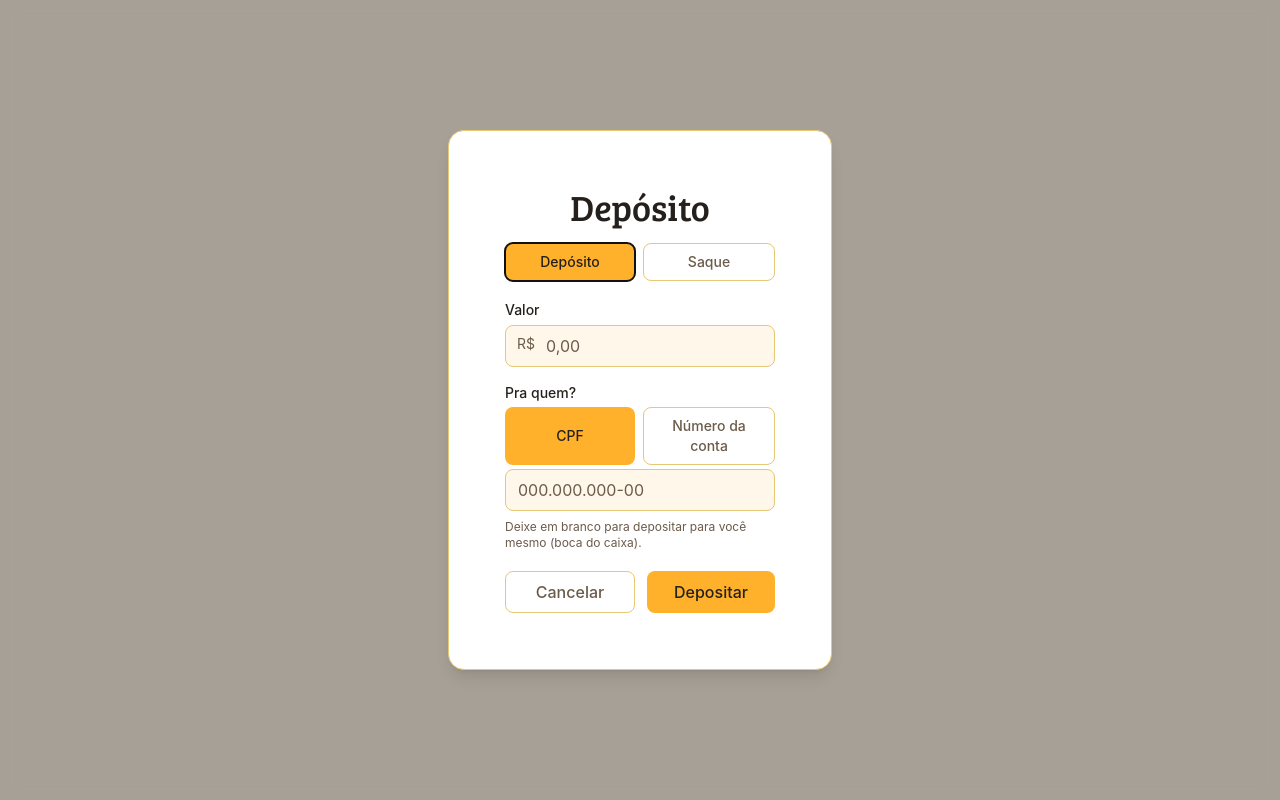
Test: MovementModal › deposita por número da conta: envia XXXXX-XX
Type "100" into the field with placeholder "0,00".
click(640, 346); type("100")  # box x1=505 y1=325 x2=775 y2=367
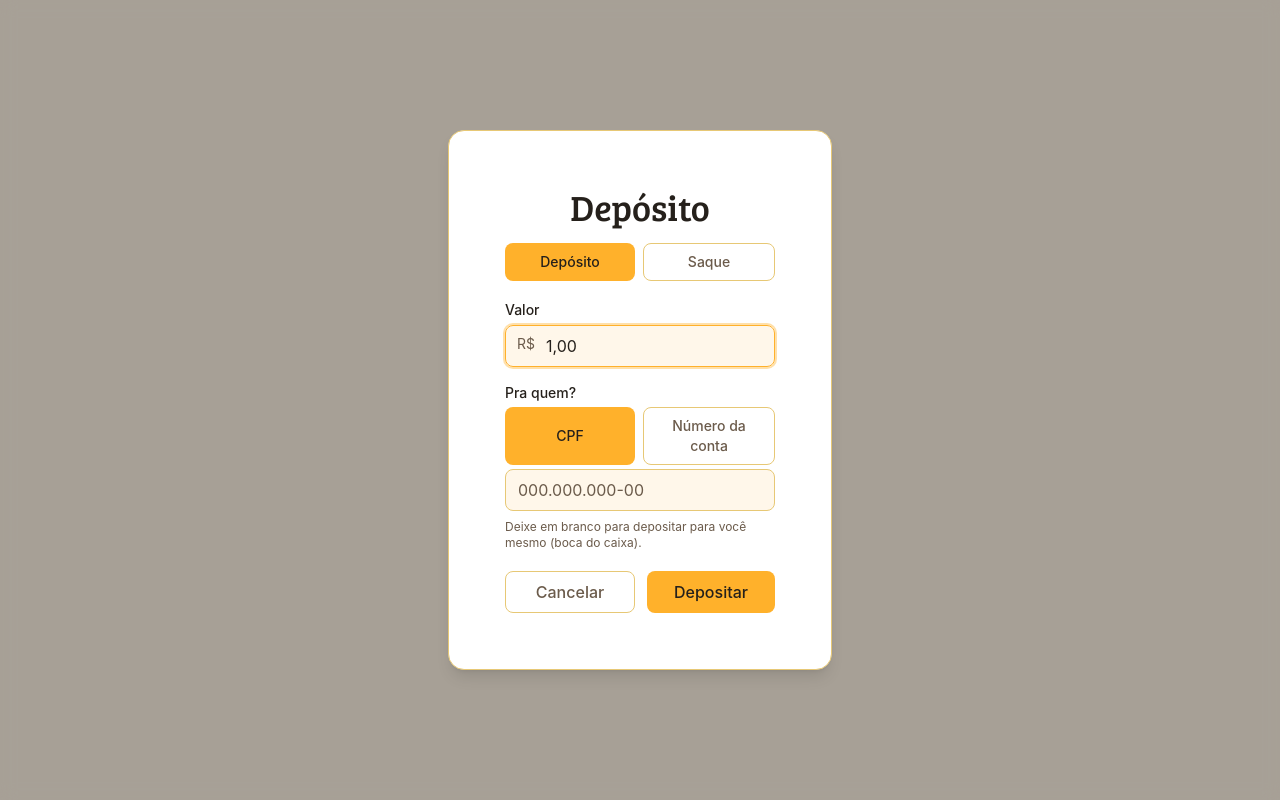
Click the button "Número da conta".
click(709, 436)  # box x1=643 y1=407 x2=775 y2=465
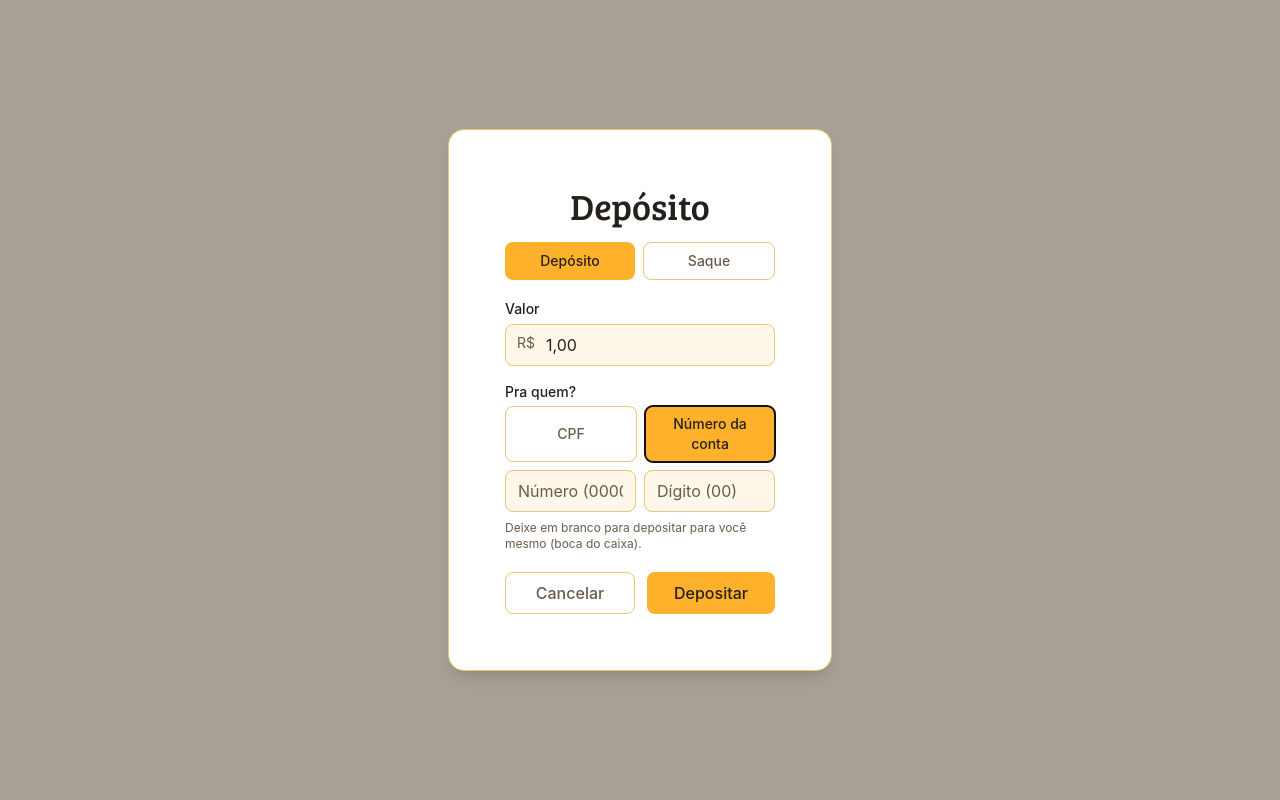
Type "00315" into the field with placeholder "Número (00000)".
click(570, 491); type("00315")  # box x1=505 y1=470 x2=636 y2=512
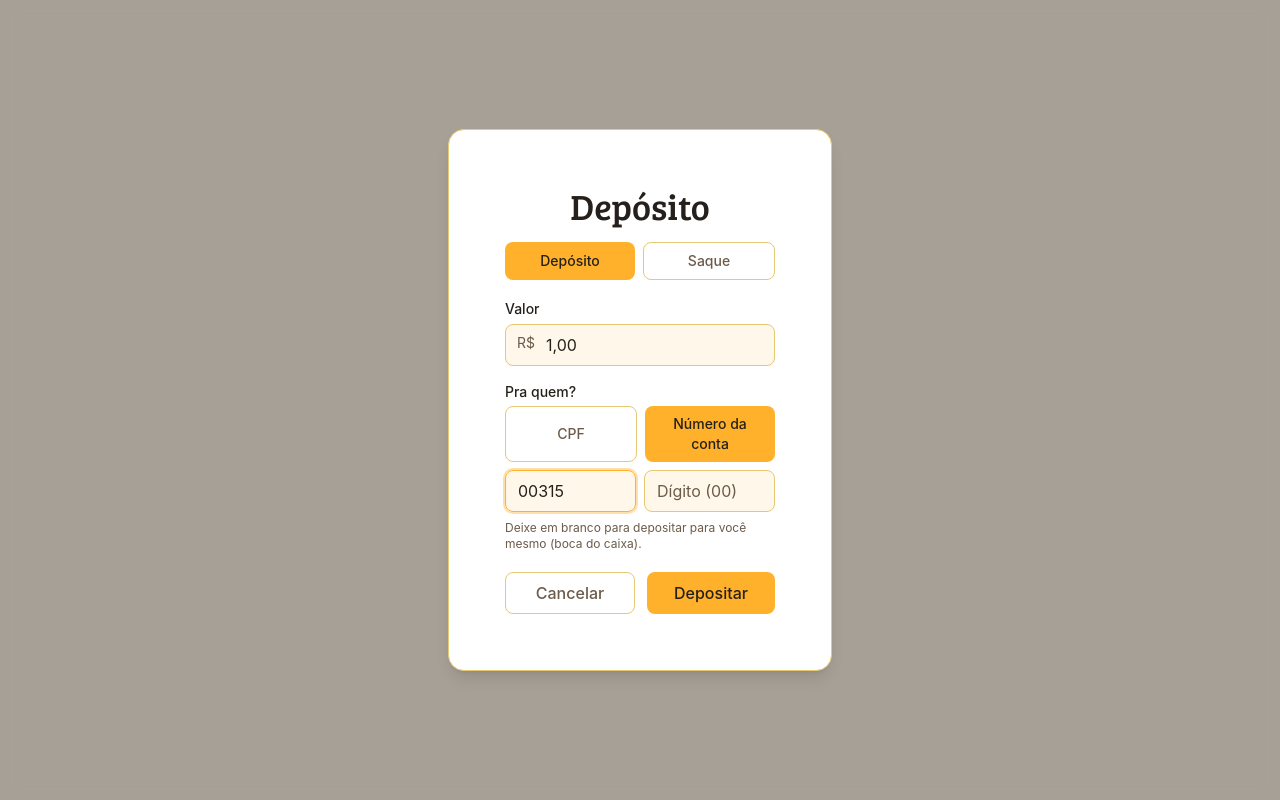
Type "41" into the field with placeholder "Dígito (00)".
click(710, 491); type("41")  # box x1=644 y1=470 x2=775 y2=512
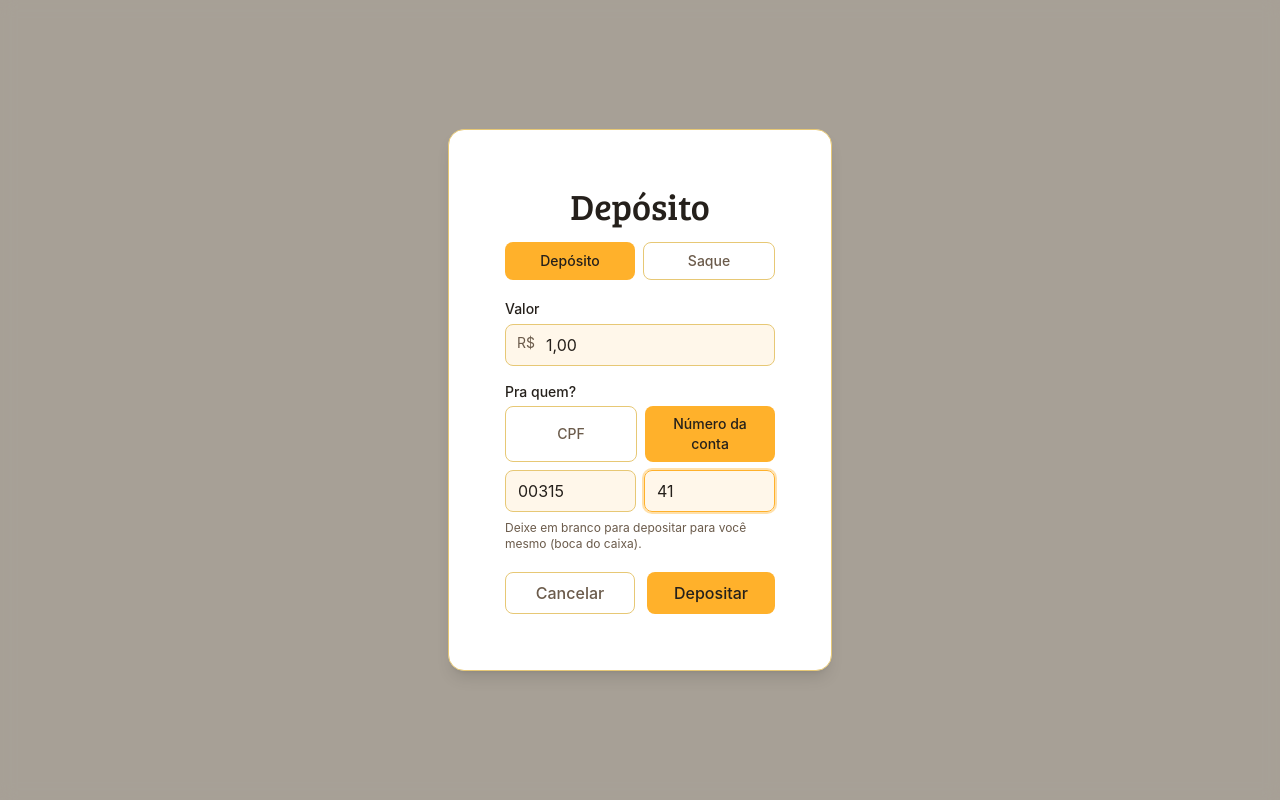
Click the button "Depositar".
click(711, 593)  # box x1=647 y1=572 x2=775 y2=614
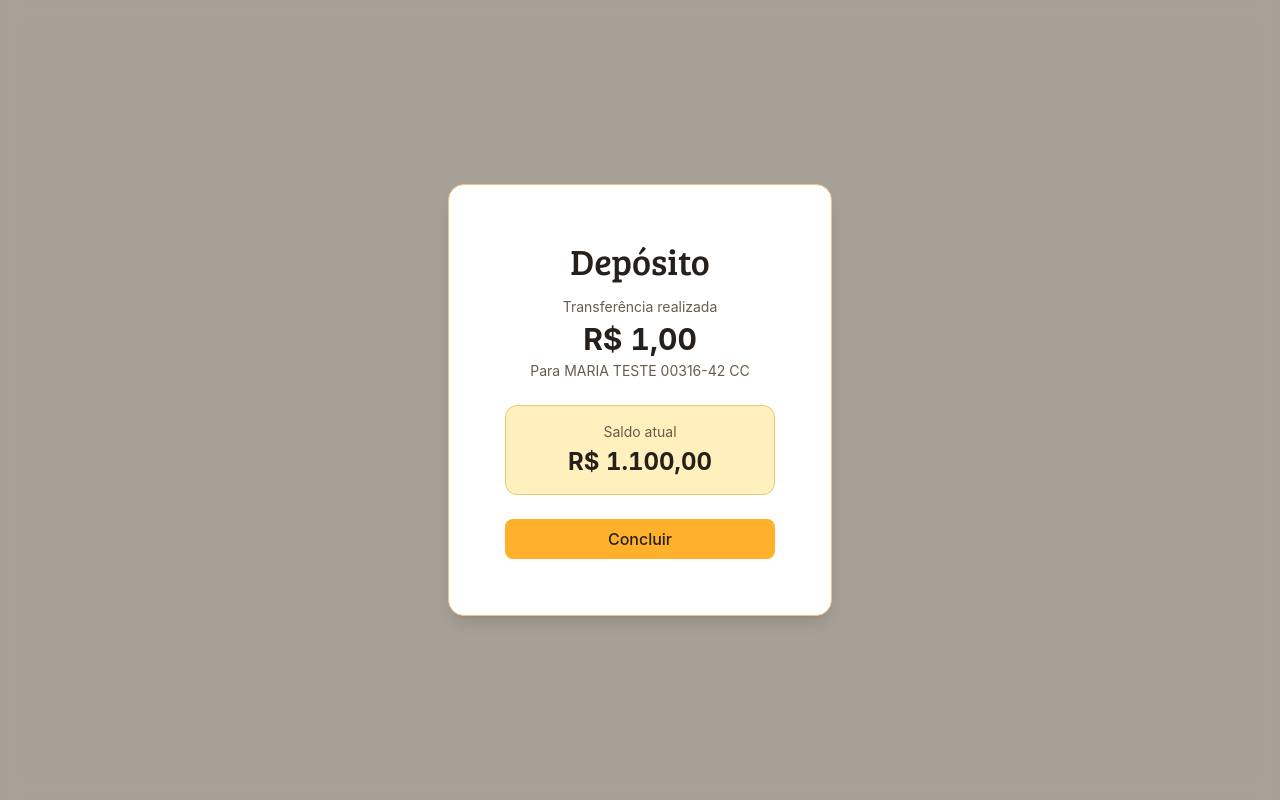
Now the text "Transferência realizada" is shown, box x1=563 y1=298 x2=717 y2=315
